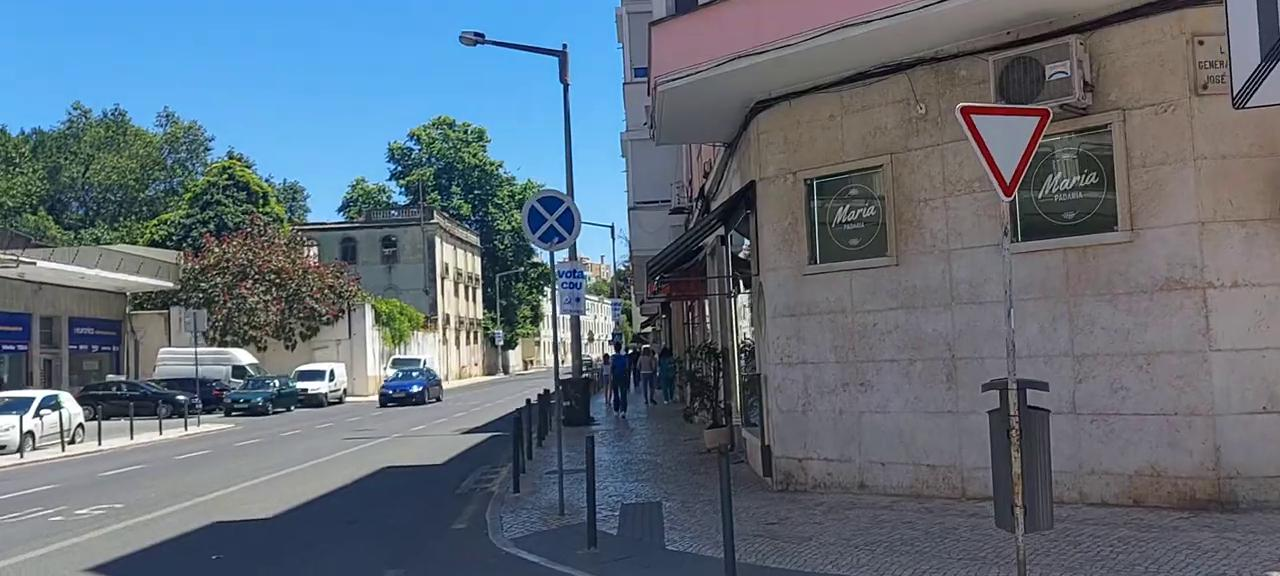cedencia de passagem: (952, 55, 1096, 212)
paragem e estacionamento proibido: (521, 189, 583, 254)
